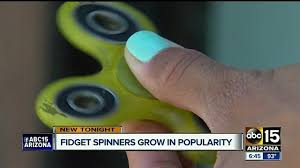hand: (63, 29, 187, 132), (188, 16, 264, 135)
